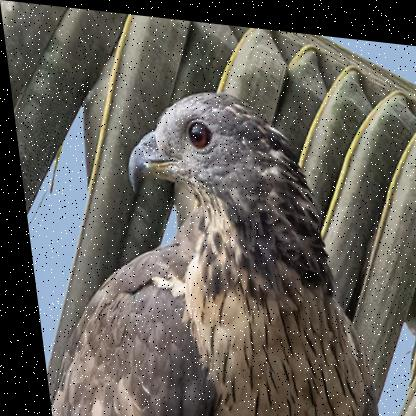Burung: (6, 66, 374, 415)
